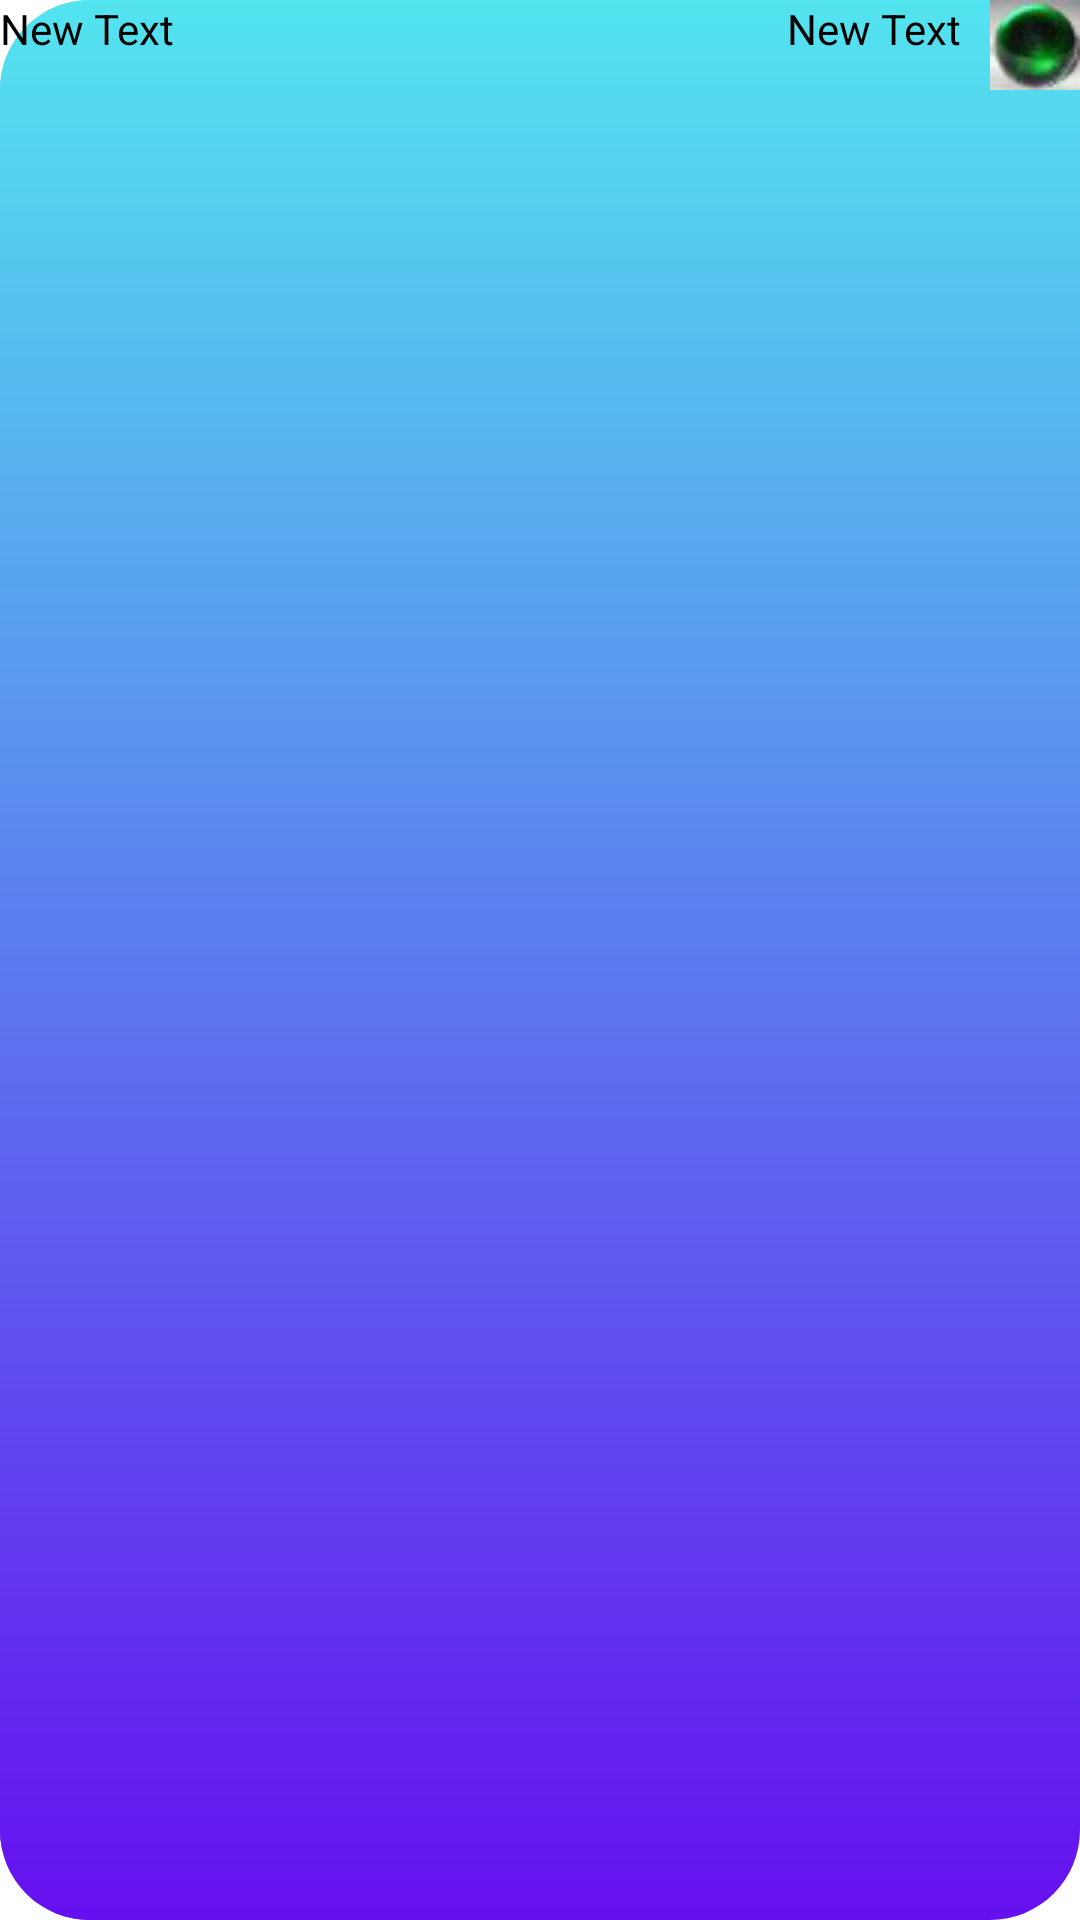

Icons on this 1080px×1920px Android screen, each with its box as (x1, y1, x2, y2):
gereen: (990, 0, 1080, 90)
